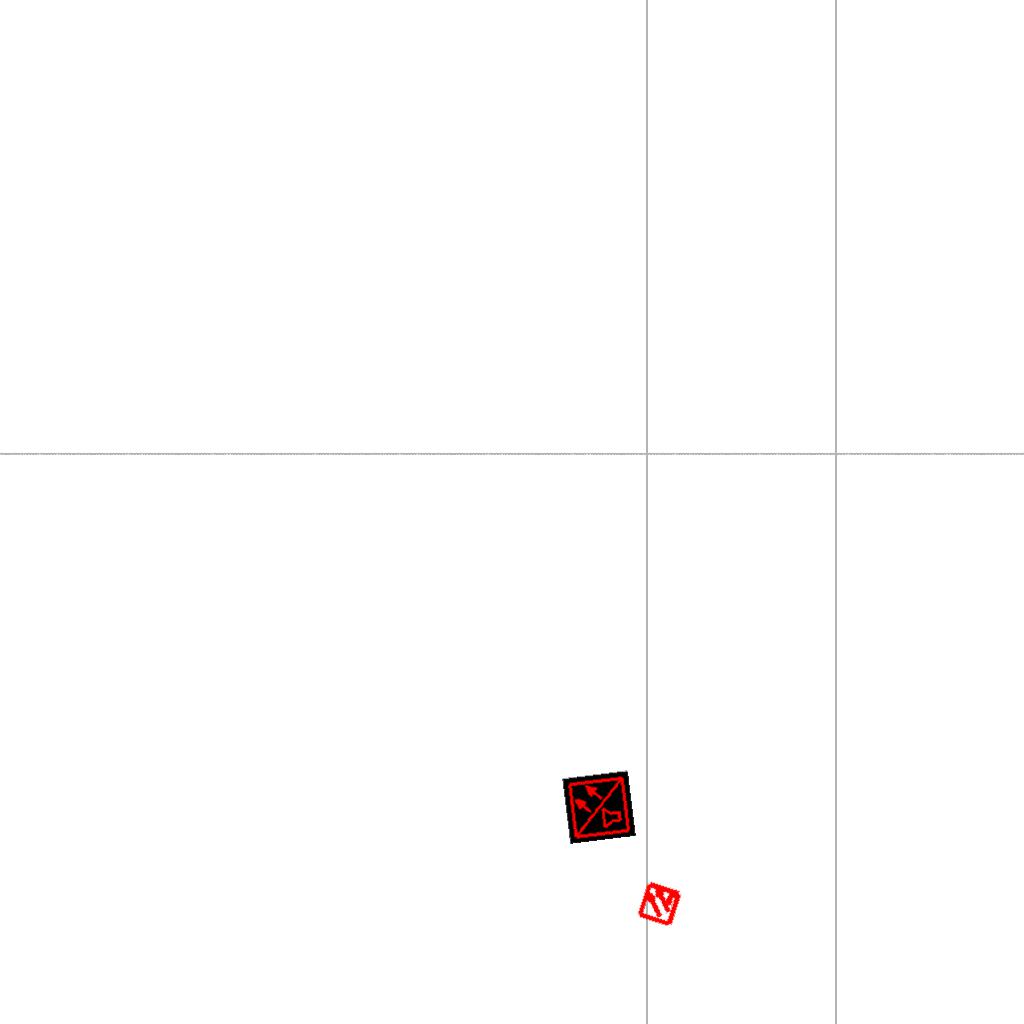OKW_Multisensormelder_(Kombination_optischer_Rauch-Kahlenmonoxid_Waerme-Melder): (562, 770, 636, 844)
OT_Multisensormelder_(Kombination_RMO_WMD): (624, 867, 696, 939)
